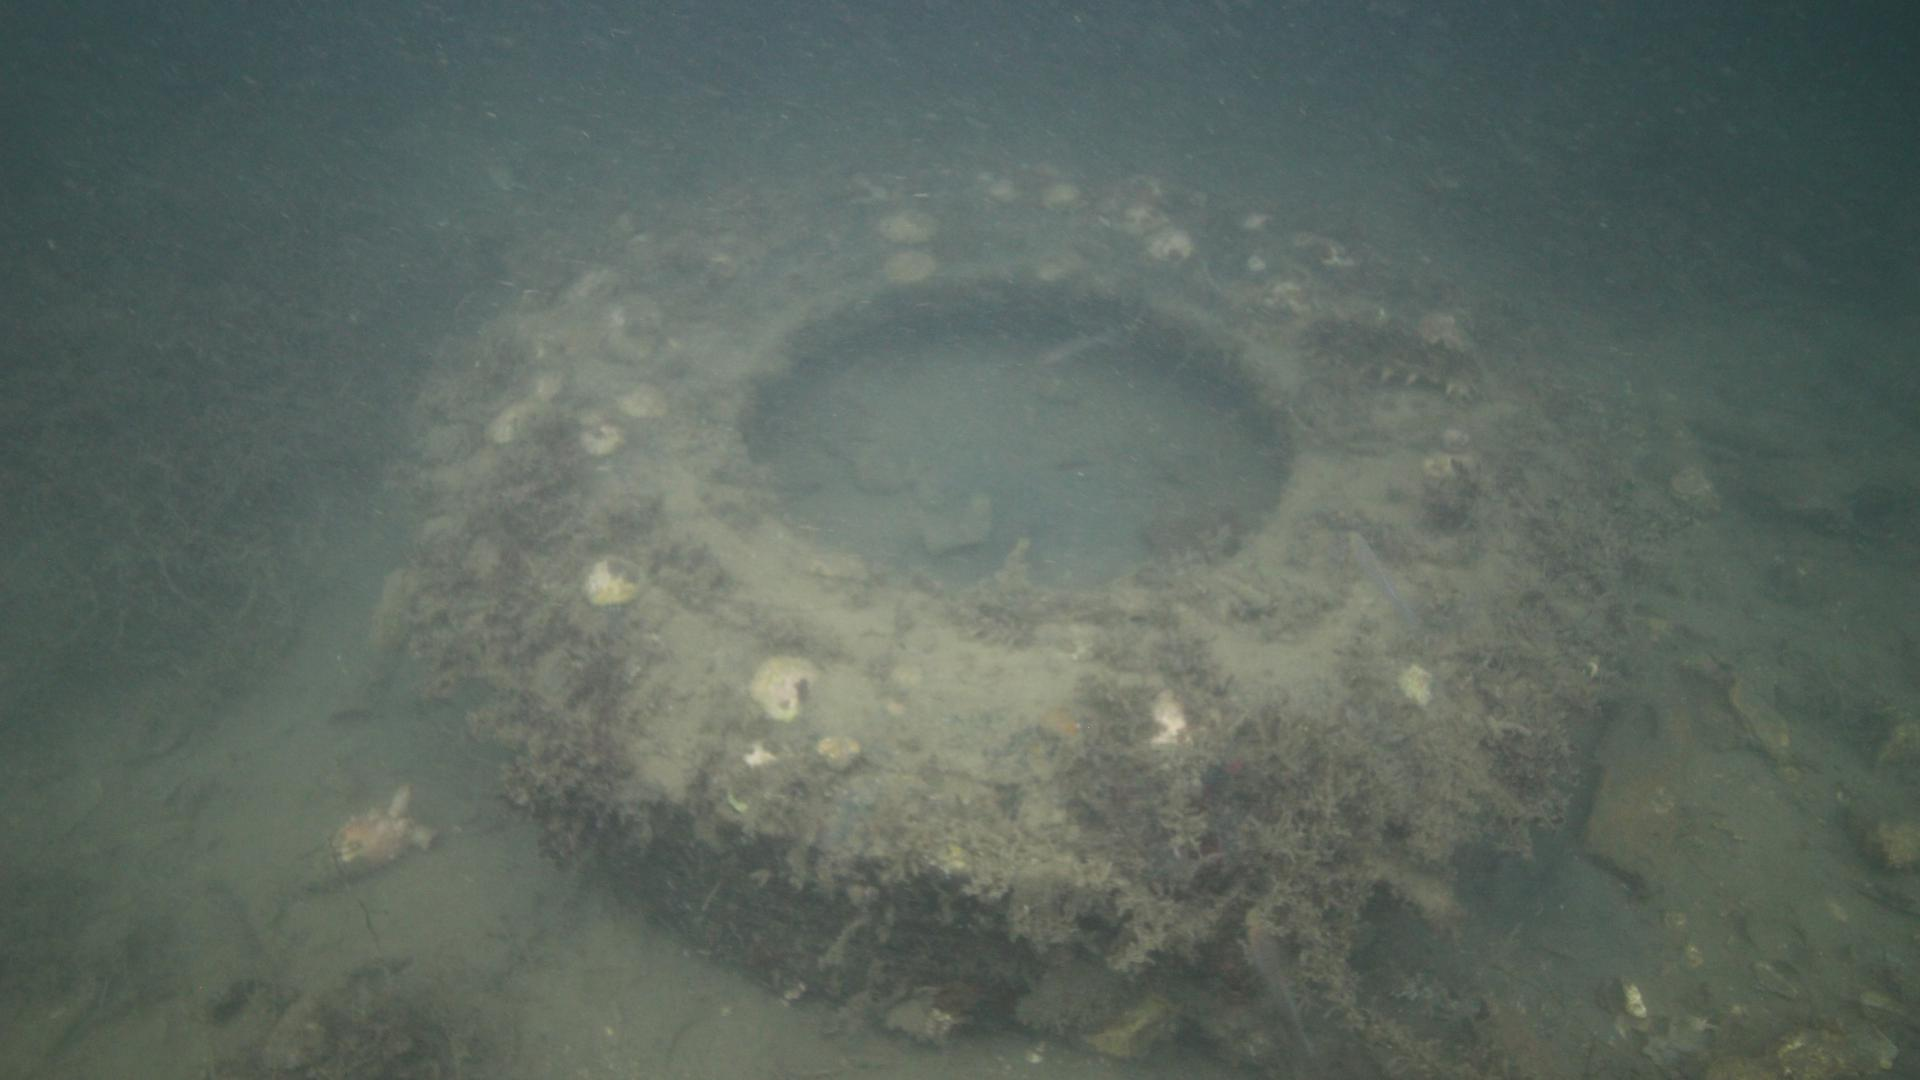tire: (417, 152, 1617, 1007)
